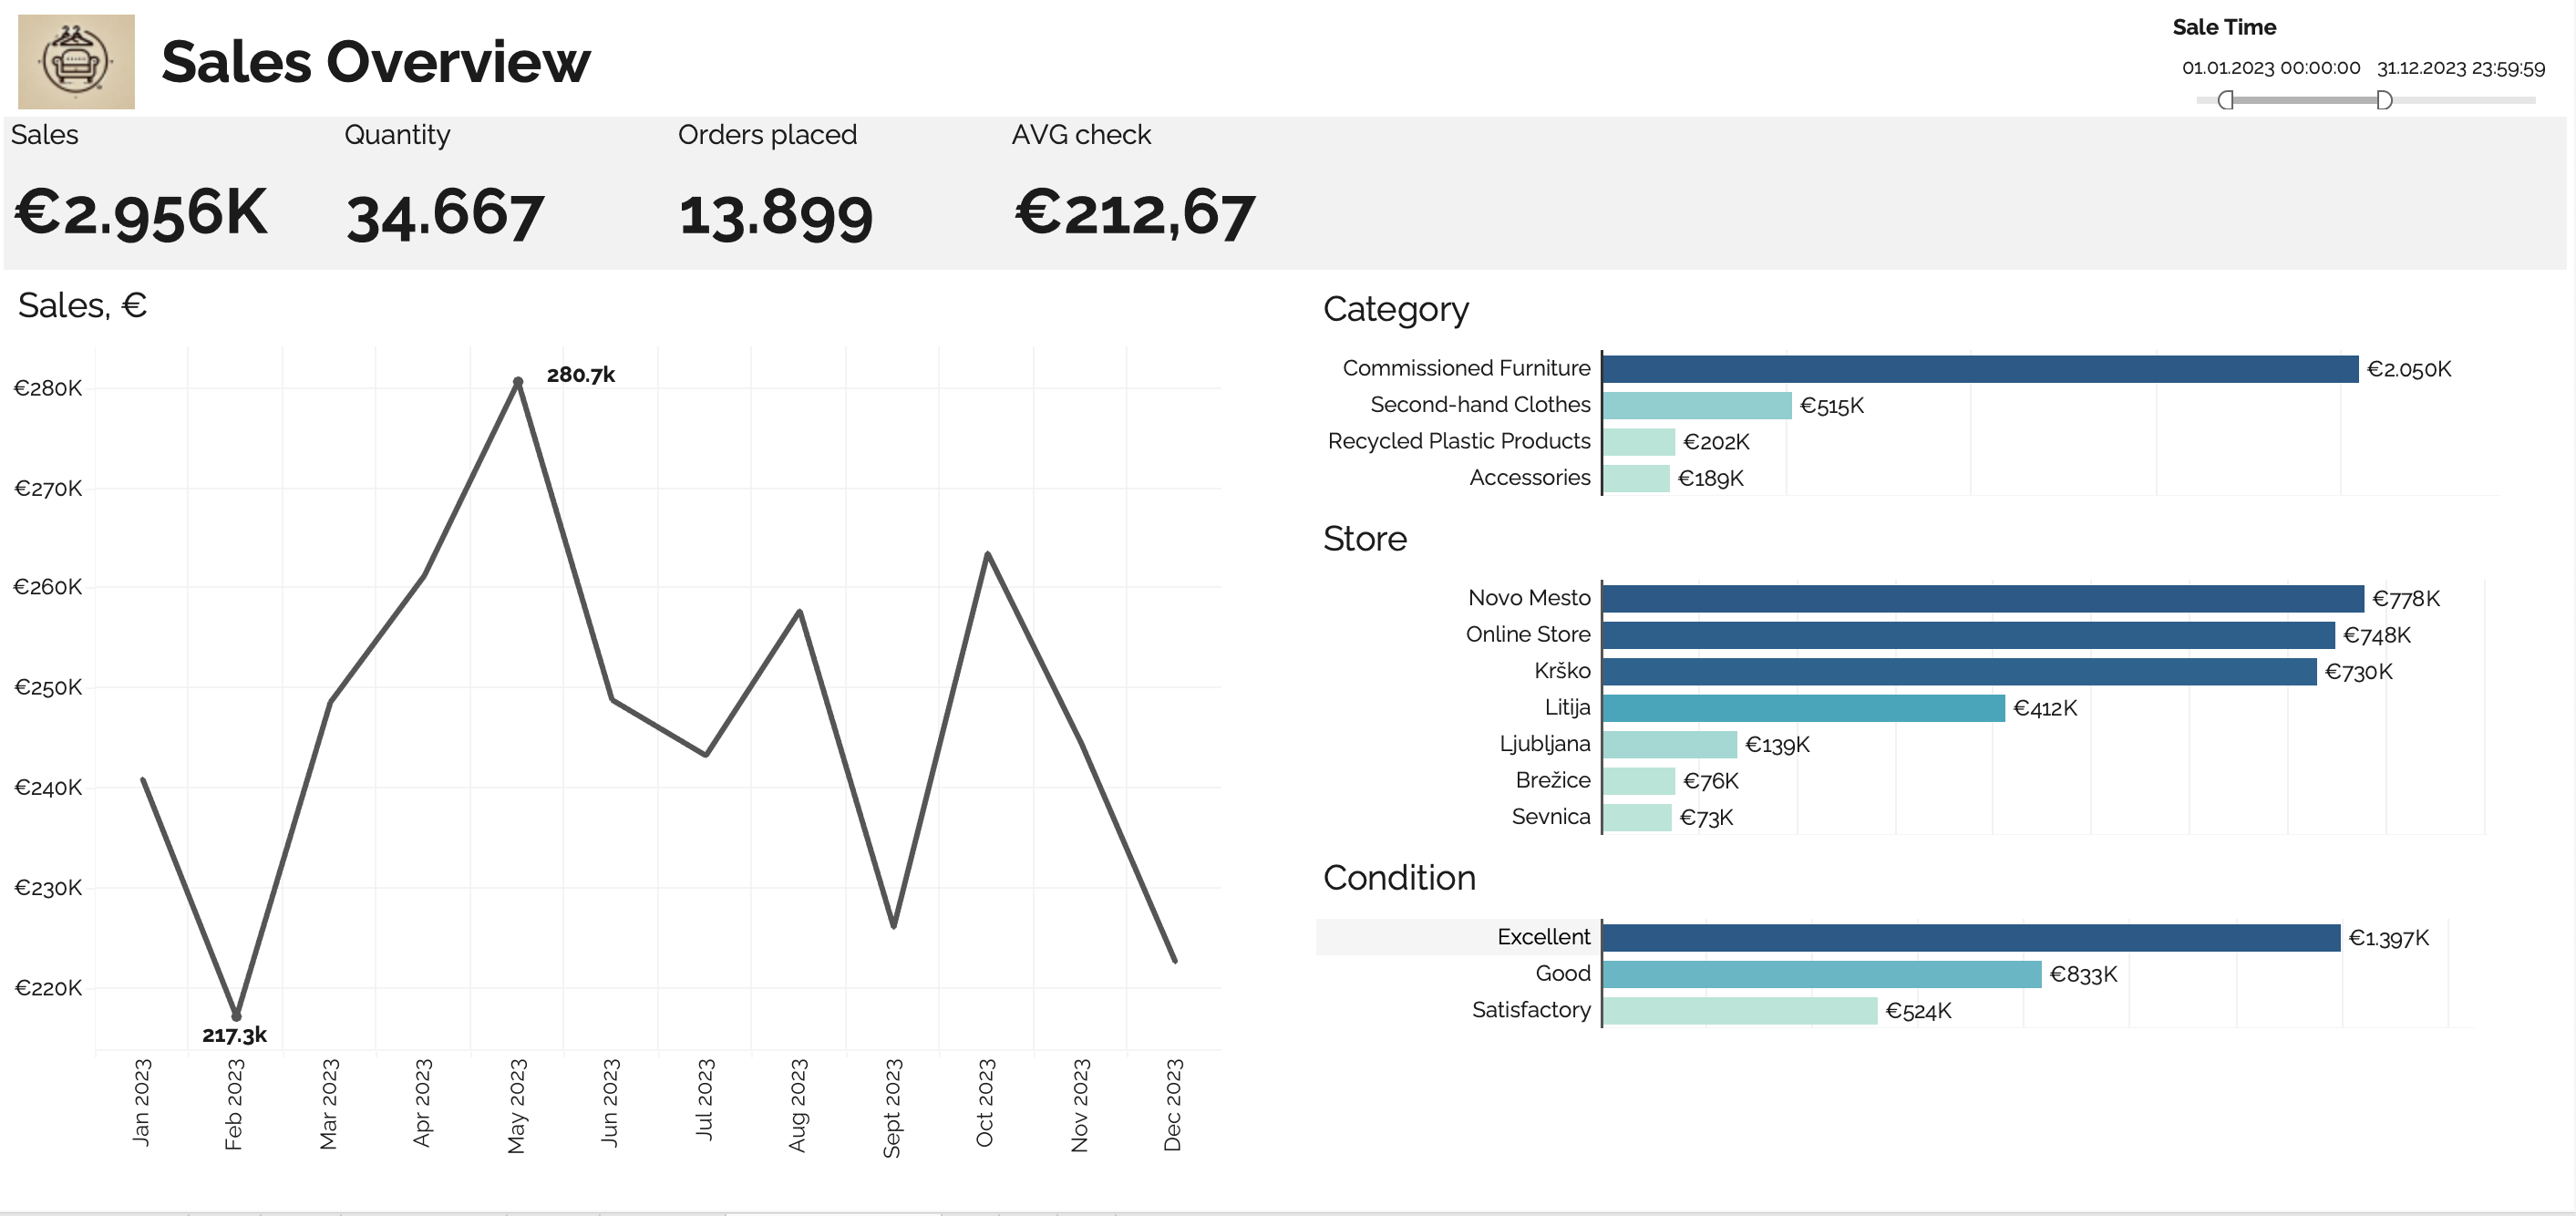

The page's visual inventory and layout, read from the dashboard file:
{"tool":"tableau","page":{"name":"Sales Overview","canvas":[1000,1000],"units":"permille","ordinal":0},"visuals":[{"type":"image","param":"/Users/admin/Desktop/Screenshot 2025-03-24 at 16.26.11.png","box":[2.8,6,56.6,90.4]},{"type":"text","box":[59.4,6,782.2,90.4]},{"type":"filter","title":"Sales","param":"[federated.0uiesp91yckvn217ld0hw0o4t5t9].[none:Sale Time:qk]","box":[841.6,6,155.6,90.4]},{"type":"worksheet","title":"KPIs","mark":"Automatic","box":[2.8,96.4,994.3,126.5]},{"type":"worksheet","title":"Sales","mark":"Line","rows":["Calculation_704109714445631488"],"cols":["Sale Time"],"box":[2.8,222.9,489.4,771.1]},{"type":"worksheet","title":"Category Top","mark":"Automatic","rows":["Category"],"cols":["Calculation_704109714445631488"],"box":[509.2,225.9,466.8,189.8]},{"type":"worksheet","title":"Stores","mark":"Bar","rows":["City"],"cols":["Calculation_704109714445631488"],"box":[509.2,415.7,466.8,280.1]},{"type":"worksheet","title":"Condition","mark":"Bar","rows":["Condition"],"cols":["Calculation_704109714445631488"],"box":[509.2,695.8,466.8,159.6]}]}

Visuals, with their boxes on the dashboard's canvas, which has no fixed pixel size, in thousandths of its width and height (x1, y1, x2, y2). These are canvas units, not pixel positions in the 2576x1216 screenshot, which may show the page scaled, cropped or inside an application window:
image: rect(3, 6, 59, 96)
text: rect(59, 6, 842, 96)
"Sales" filter: rect(842, 6, 997, 96)
"KPIs" worksheet: rect(3, 96, 997, 223)
"Sales" worksheet (Line marks): rect(3, 223, 492, 994)
"Category Top" worksheet: rect(509, 226, 976, 416)
"Stores" worksheet (Bar marks): rect(509, 416, 976, 696)
"Condition" worksheet (Bar marks): rect(509, 696, 976, 855)
